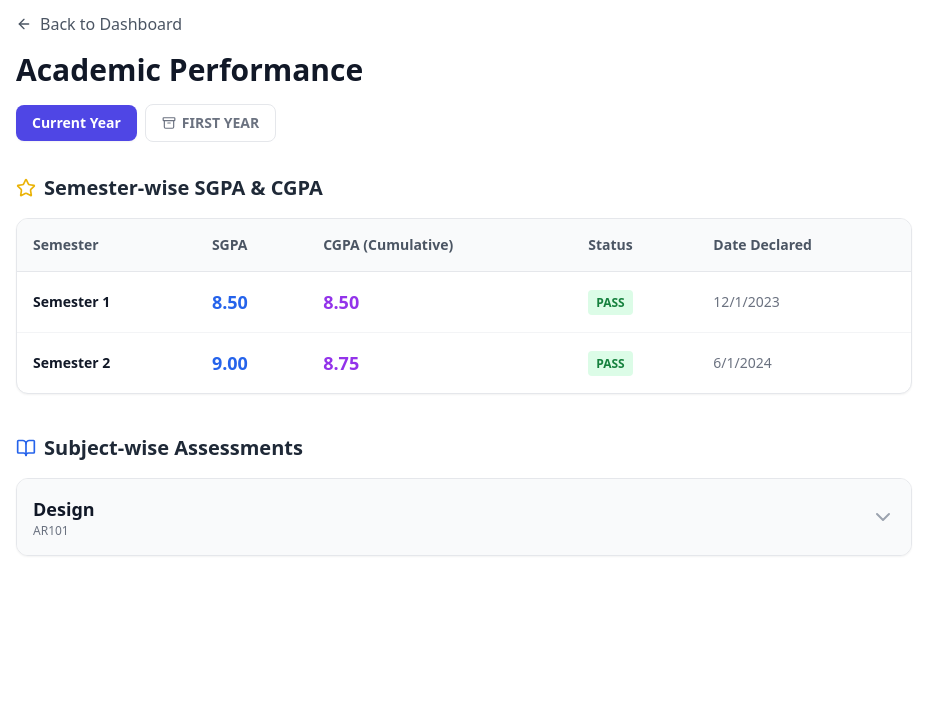
StudentResults Component › displays and toggles subject assessments
Expected: the text "AR101" is shown, [33, 522, 69, 539]
Click the heading "Design". click: click(64, 509)
box: [33, 495, 95, 523]
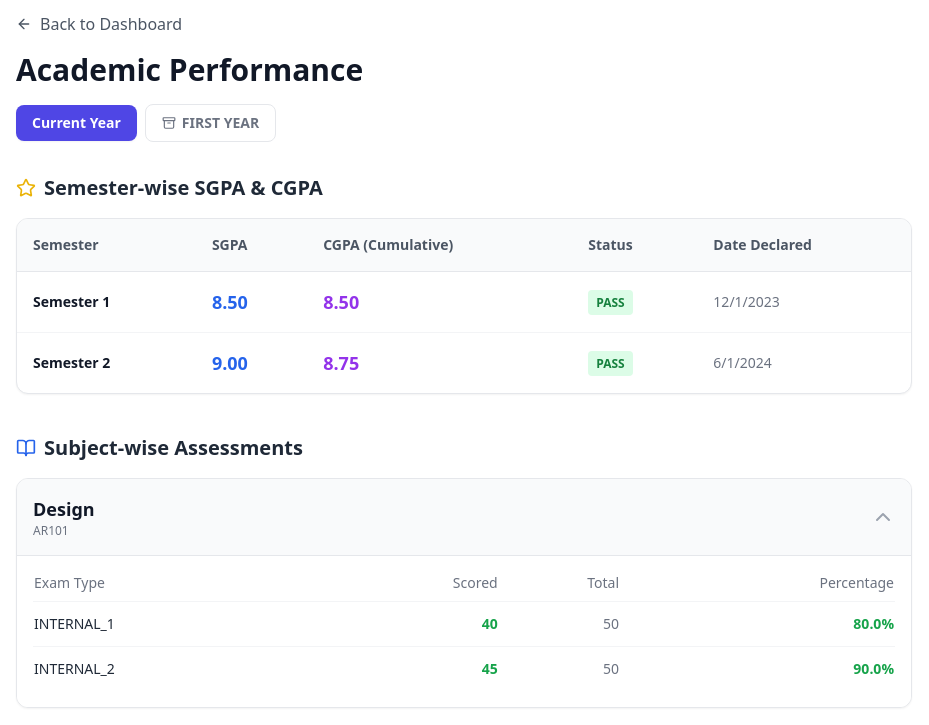
Expected: the text "INTERNAL_1" is shown, [33, 602, 330, 646]
Expected: the text "40" is shown, [330, 602, 499, 646]
Expected: the text "80.0%" is shown, [620, 602, 895, 646]
